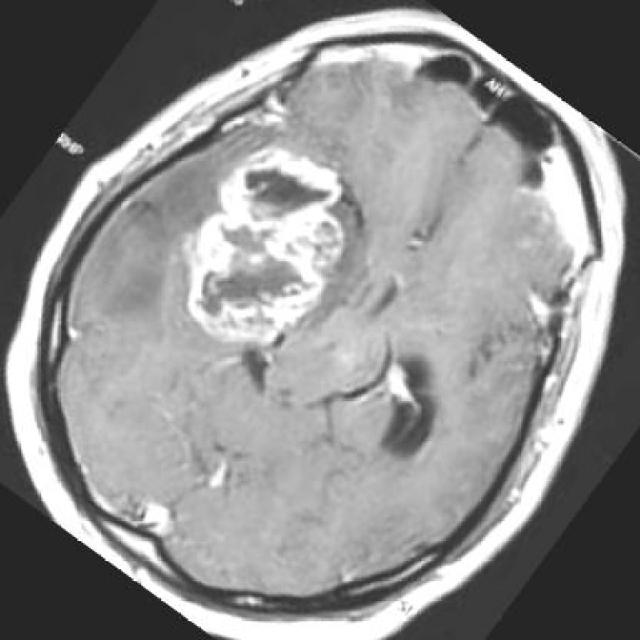Brain-Tumor: (180, 139, 358, 360)
